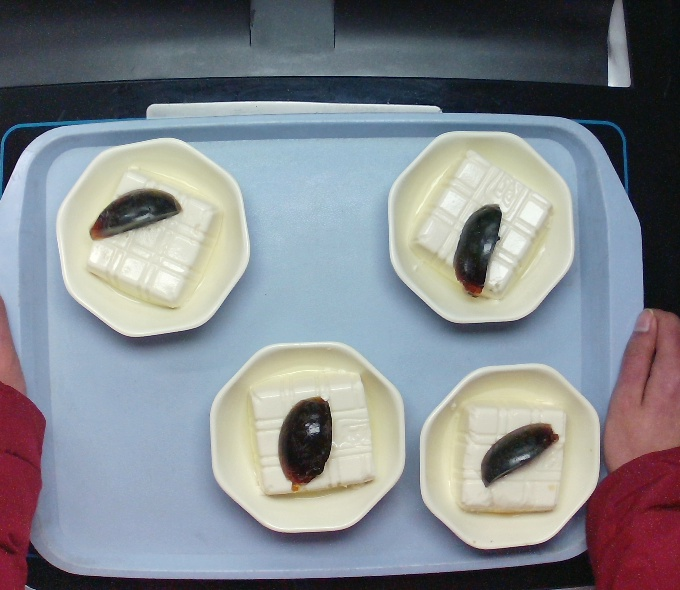wcq-PiDanDouFu: (404, 147, 561, 303), (76, 162, 221, 313), (249, 363, 376, 504), (449, 397, 571, 523)
